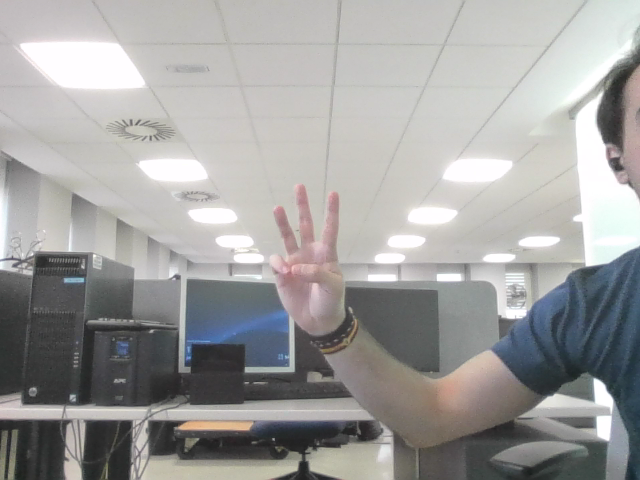3Dedos: (277, 196, 332, 301)
